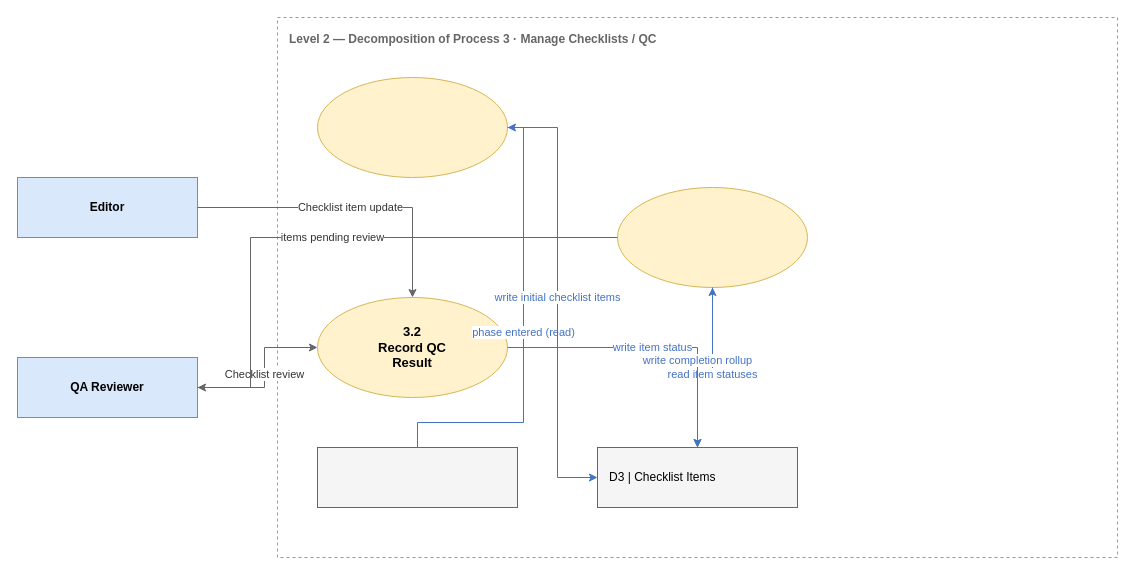
Image size: 1135x575. Some labels were removed from this diagram. The shapes that lost their labels are listed below. From the top down, each one's centre as x and y in pixels, then its label:
At point (412, 127): "3.1 Initialize Checklist for Phase".
At point (712, 237): "3.3 Evaluate Completion".
At point (417, 477): "D2 | Phase Progress".
